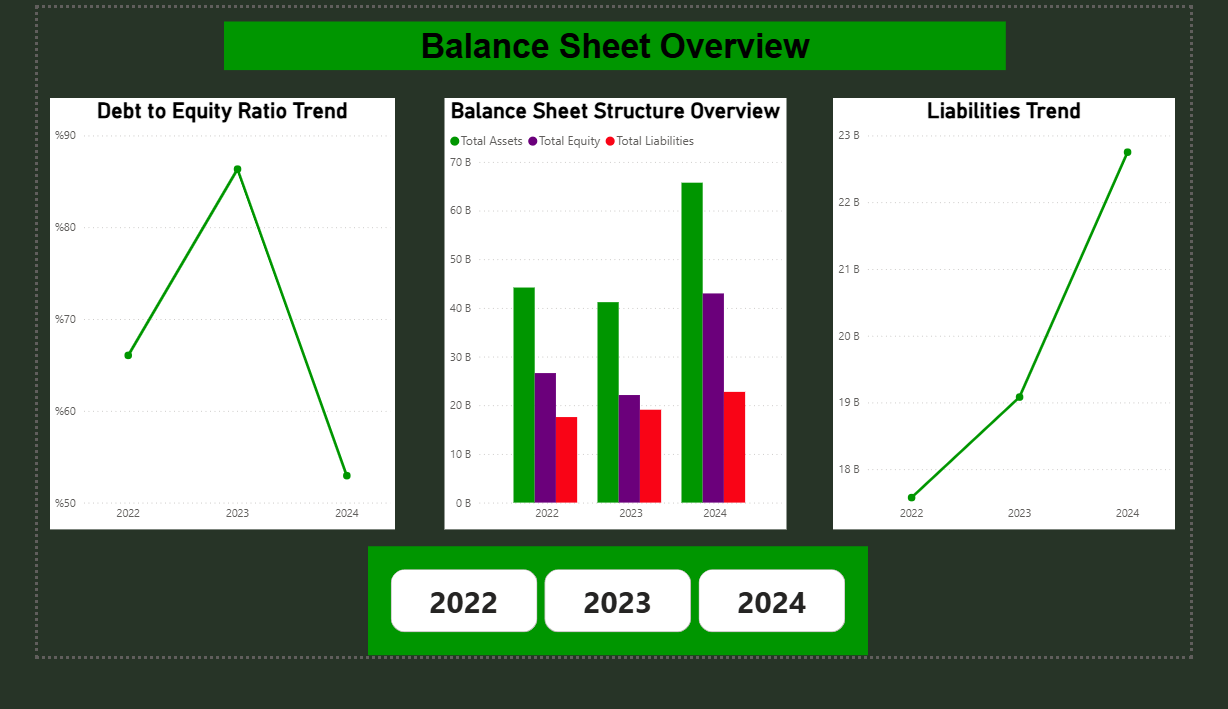

The page's visual inventory and layout, read from the dashboard file:
{"tool":"powerbi","page":{"name":"Balance Sheet Overview","canvas":[1280,720],"ordinal":2},"visuals":[{"type":"textbox","box":[206.3,15.5,868.5,54.3],"z":0},{"type":"clusteredColumnChart","title":"Balance Sheet Structure Overview","fields":{"Category":["Dim_Year.Year"],"Y":["KPI_Table.Total Assets","KPI_Table.Total Equity","KPI_Table.Total Liabilities"]},"box":[451.3,100.8,380,479.2],"z":1},{"type":"lineChart","title":"Liabilities Trend","fields":{"Category":["Dim_Year.Year"],"Y":["KPI_Table.Total Liabilities"]},"box":[884,100.8,380,479.2],"z":2},{"type":"lineChart","title":"Debt to Equity Ratio Trend","fields":{"Category":["Dim_Year.Year"],"Y":["KPI_Table.Debt to Equity Ratio"]},"box":[14,100.8,383.1,479.2],"z":3},{"type":"advancedSlicerVisual","fields":{"Values":["Dim_Year.Year"]},"box":[366,598.6,555.2,121],"z":4}]}

Visuals, with their boxes in screenshot pixels (x1, y1, x2, y2), scaled from the page's 1280x720 canvas onto the 1228x709 screenshot:
textbox: <box>198,15,1031,69</box>
"Balance Sheet Structure Overview" clusteredColumnChart: <box>433,99,798,571</box>
"Liabilities Trend" lineChart: <box>848,99,1213,571</box>
"Debt to Equity Ratio Trend" lineChart: <box>13,99,381,571</box>
advancedSlicerVisual - Dim_Year.Year: <box>351,589,884,708</box>
